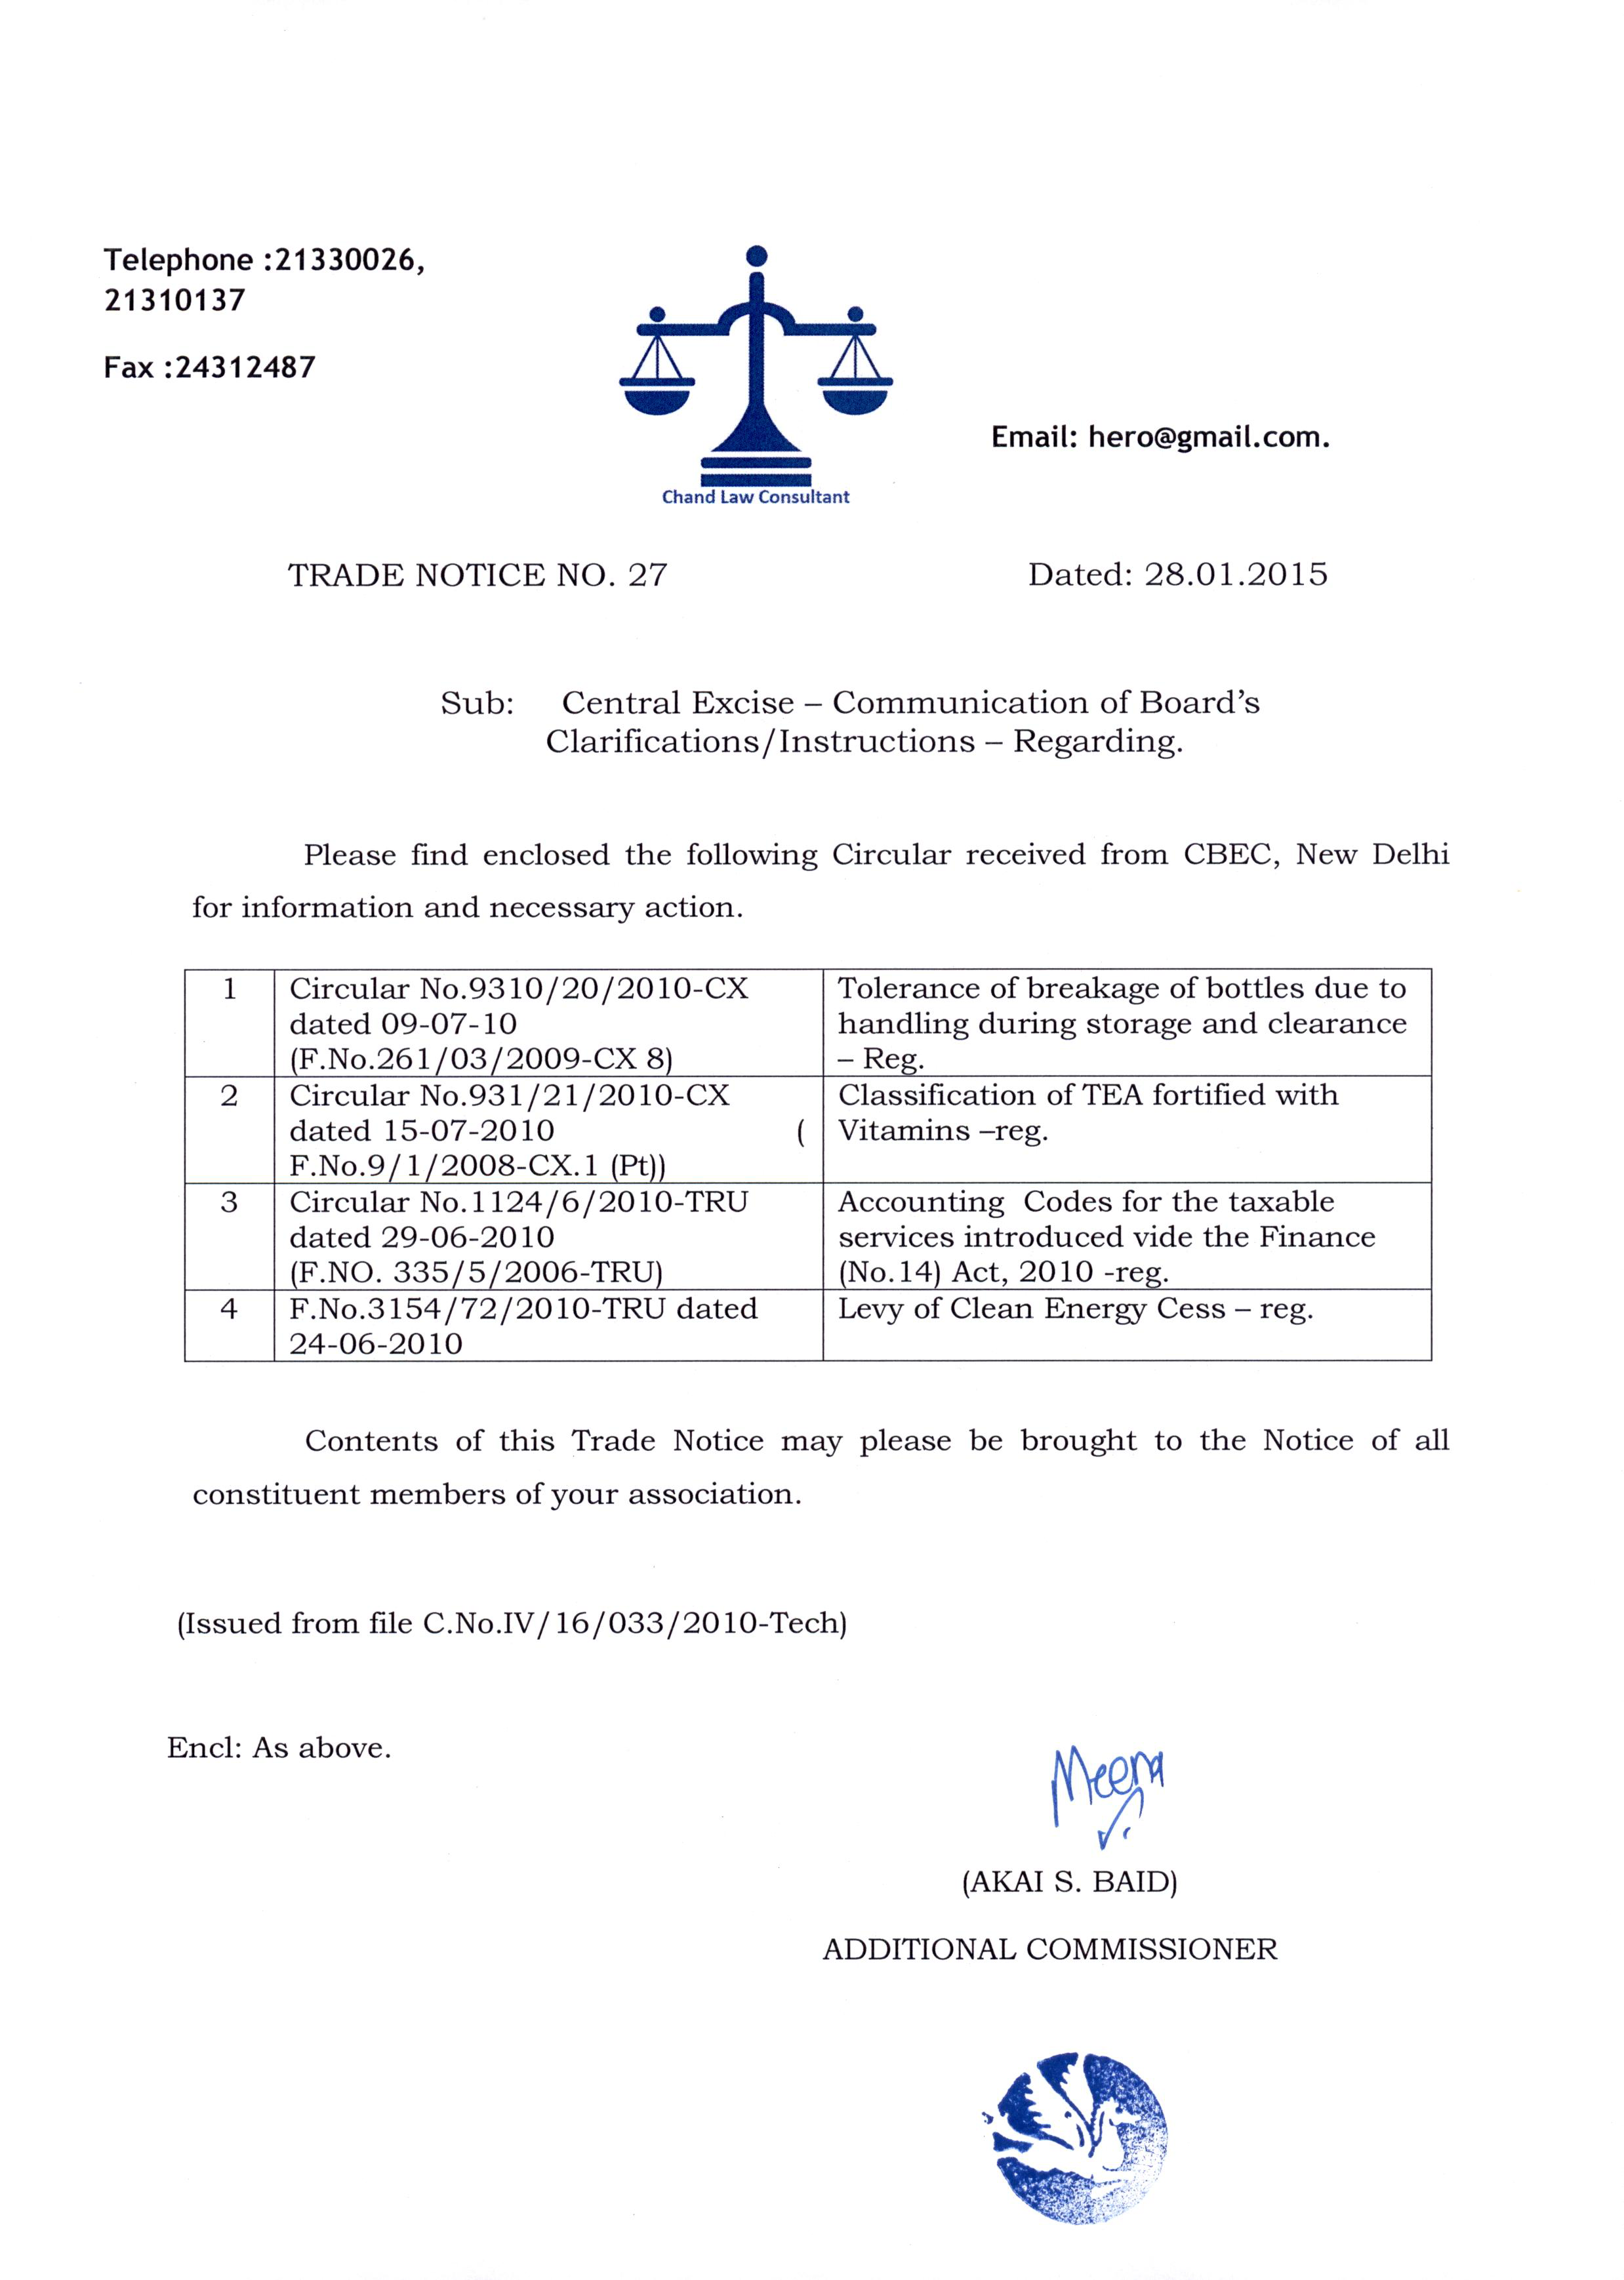Signature: (1040, 1732, 1176, 1860)
